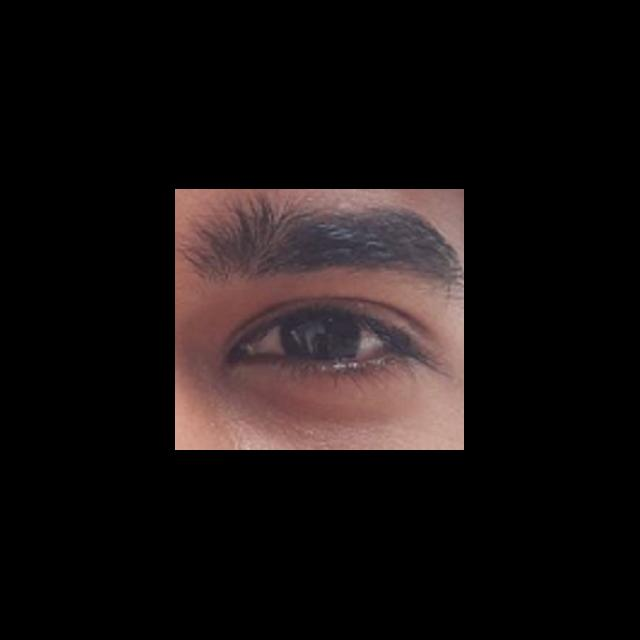eye: (254, 309, 386, 360)
iris: (281, 311, 361, 358)
